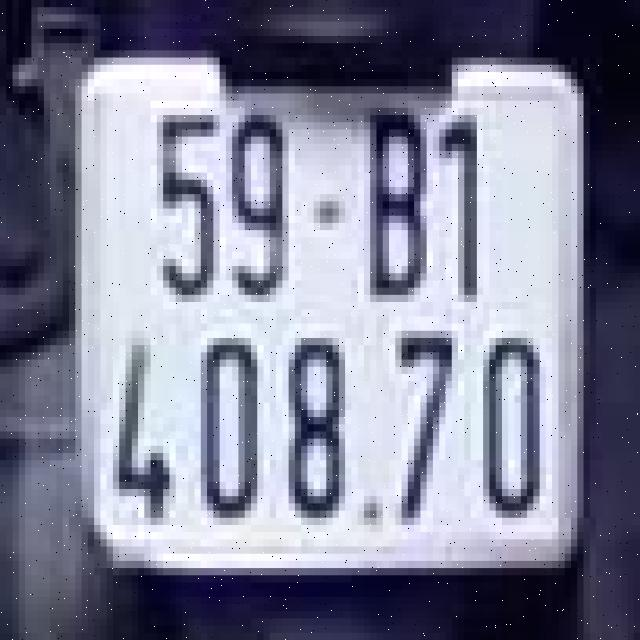0: (191, 327, 267, 543), (467, 316, 543, 525)
1: (433, 90, 496, 313)
4: (94, 334, 188, 536)
5: (132, 90, 226, 313)
7: (370, 306, 464, 536)
8: (267, 324, 348, 525)
9: (217, 101, 298, 316)
B: (345, 101, 439, 316)
